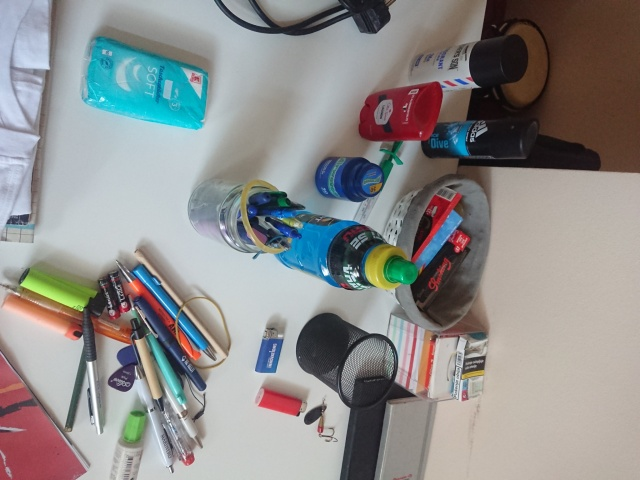Vindi Iso Sport Forest Strawberries 500mL: (272, 208, 420, 292)
